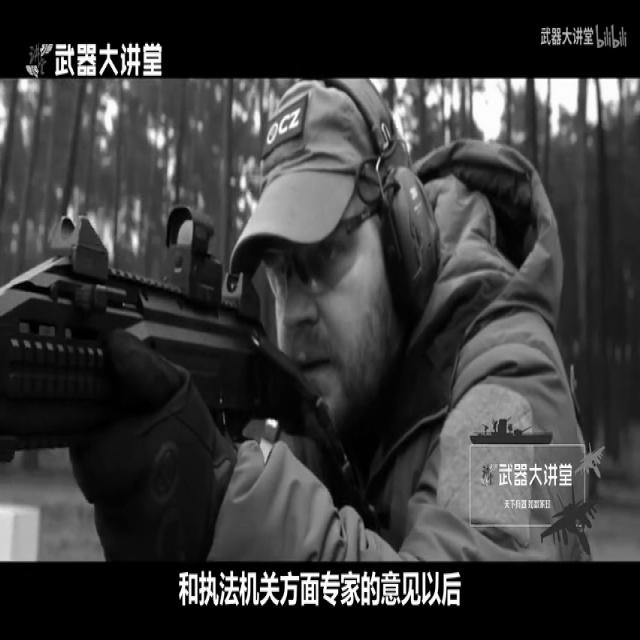Sniper: (0, 150, 378, 617)
